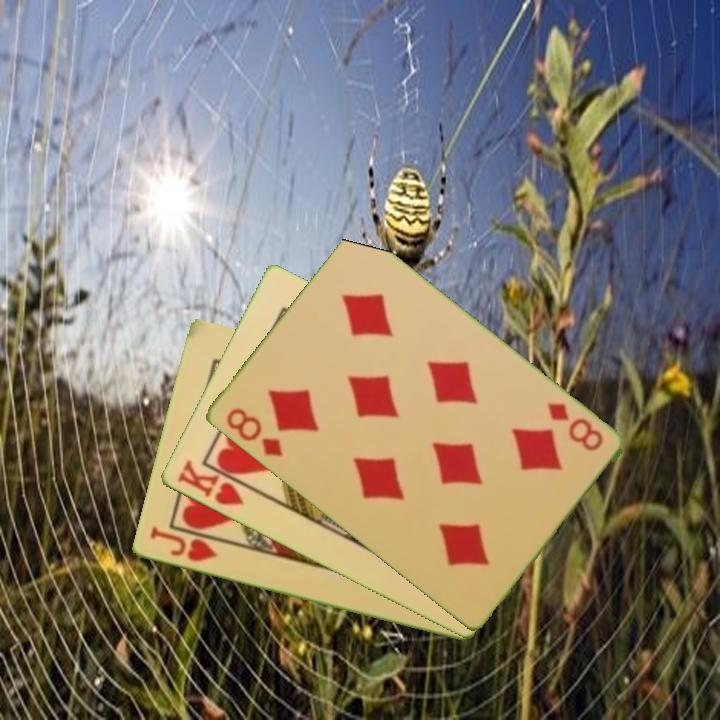8d: (222, 404, 285, 460), (543, 399, 606, 455)
Jh: (146, 523, 220, 565)
Kh: (173, 456, 257, 509)
